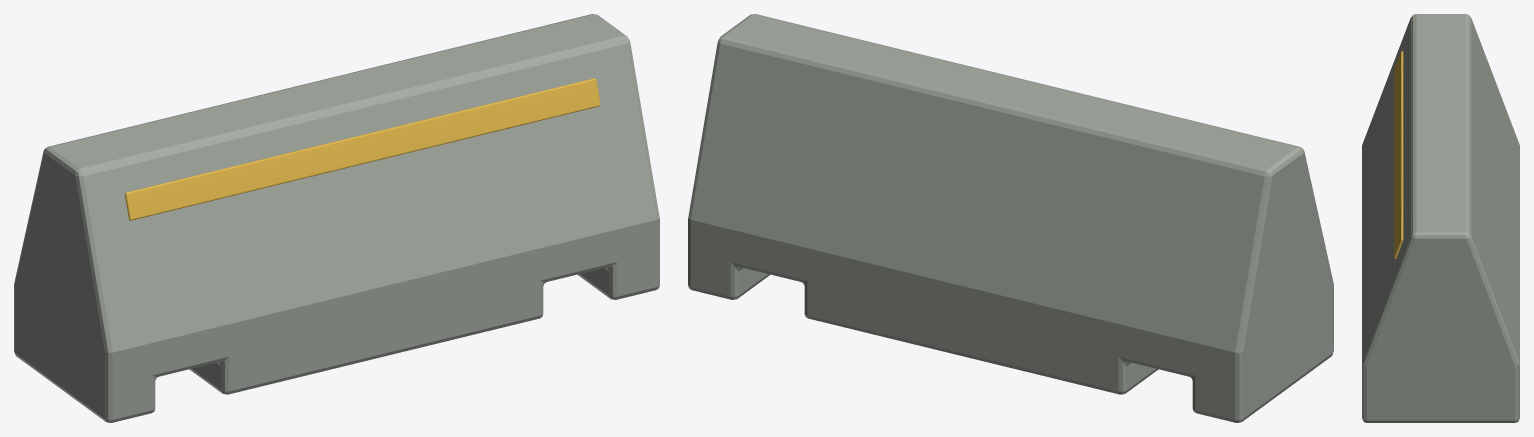
File: concrete_barrier.glb
3 renders of one model, left to right at view 1: azimuth 30°, elevation 25°; view 2: azimuth 150°, elevation 25°; view 3: azimuth 270°, elevation 25°, orthographic. The views are drawn at different scales.
Parts seen in each view (by area): view 1: Keep_Mesh; view 2: Keep_Mesh; view 3: Keep_Mesh.
Part boxes in pixels (x1,y1,x2,y2): Keep_Mesh: (14, 14, 659, 422); Keep_Mesh: (688, 14, 1333, 422); Keep_Mesh: (1362, 14, 1519, 422).
Size of the model in its own units: 2 by 0.8 by 0.6.
